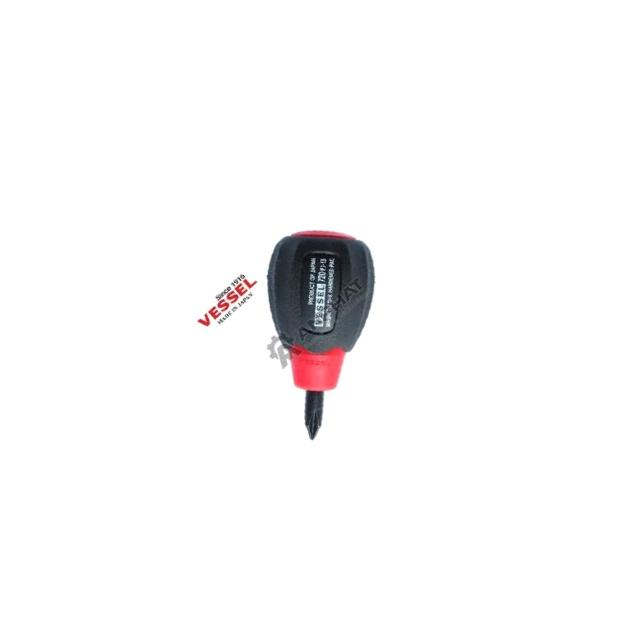screwdriver: (198, 198, 441, 441)
